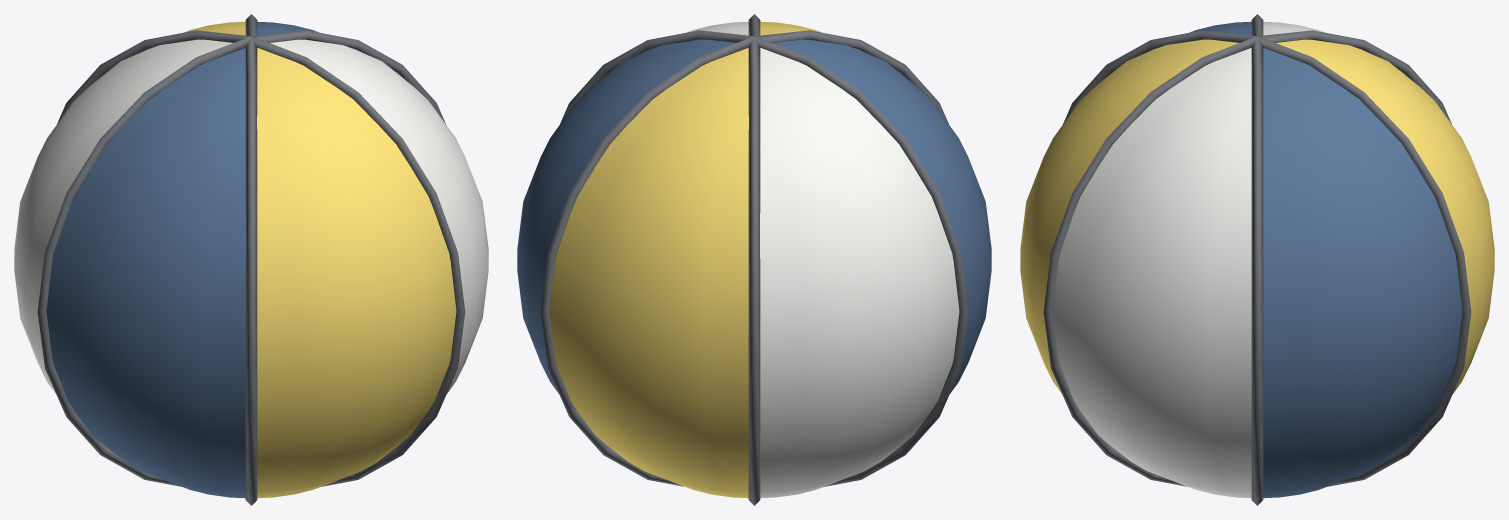
Rendered from beach-surf-and-paddle-kit-volleyball-17bb5a66__39444.glb.
3 renders of one model, left to right at view 1: azimuth 30°, elevation 25°; view 2: azimuth 150°, elevation 25°; view 3: azimuth 270°, elevation 25°, orthographic.
Visible parts, largest first — view 1: volleyball-navy, volleyball-sun, volleyball-foam, volleyball-charcoal; view 2: volleyball-sun, volleyball-foam, volleyball-navy, volleyball-charcoal; view 3: volleyball-foam, volleyball-navy, volleyball-sun, volleyball-charcoal.
Part boxes in pixels (left/top/right/bottom): volleyball-navy: left=46, top=21, right=318, bottom=498; volleyball-sun: left=184, top=21, right=456, bottom=498; volleyball-foam: left=14, top=39, right=488, bottom=393; volleyball-charcoal: left=37, top=14, right=465, bottom=505; volleyball-sun: left=549, top=21, right=821, bottom=498; volleyball-foam: left=687, top=21, right=959, bottom=498; volleyball-navy: left=517, top=39, right=991, bottom=393; volleyball-charcoal: left=540, top=14, right=968, bottom=505; volleyball-foam: left=1052, top=21, right=1324, bottom=498; volleyball-navy: left=1190, top=21, right=1462, bottom=498; volleyball-sun: left=1020, top=39, right=1494, bottom=393; volleyball-charcoal: left=1043, top=14, right=1471, bottom=505.
Bounding box in the file's own units: 0.2174 × 0.2173 × 0.2088.
